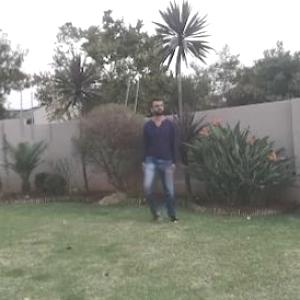follow: (141, 93, 180, 223)
